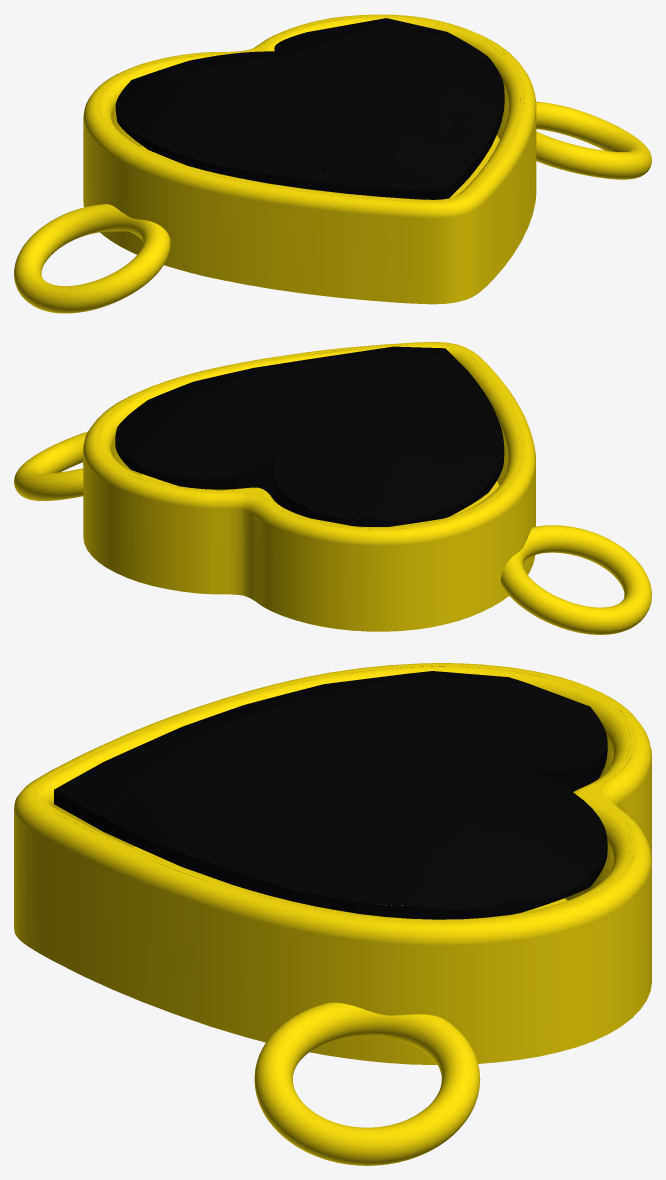
The model's file is bracelet-heart.glb.
3 views of the same model, one above another, from view 1: azimuth 30°, elevation 25°; view 2: azimuth 150°, elevation 25°; view 3: azimuth 270°, elevation 25° (orthographic). The views are drawn at different scales.
Size of the model in its own units: 0.0232 by 0.00549 by 0.015.
